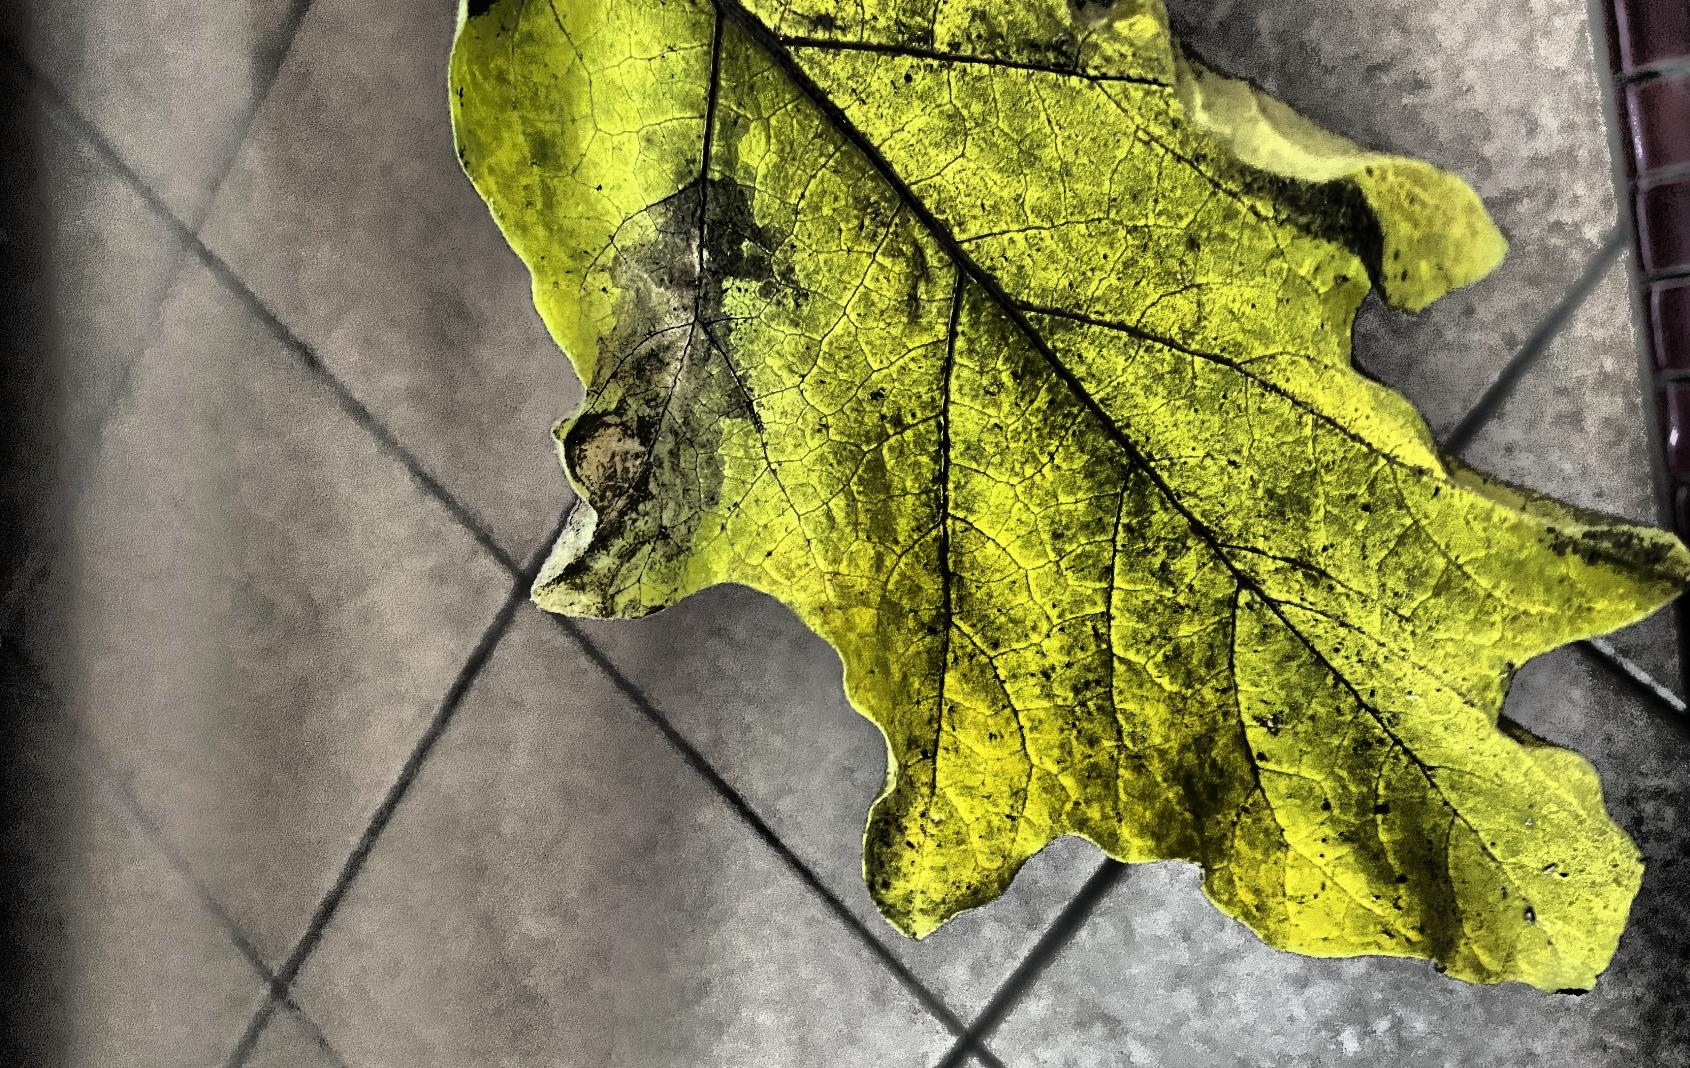Critical Stress: (0, 134, 1223, 1068)
